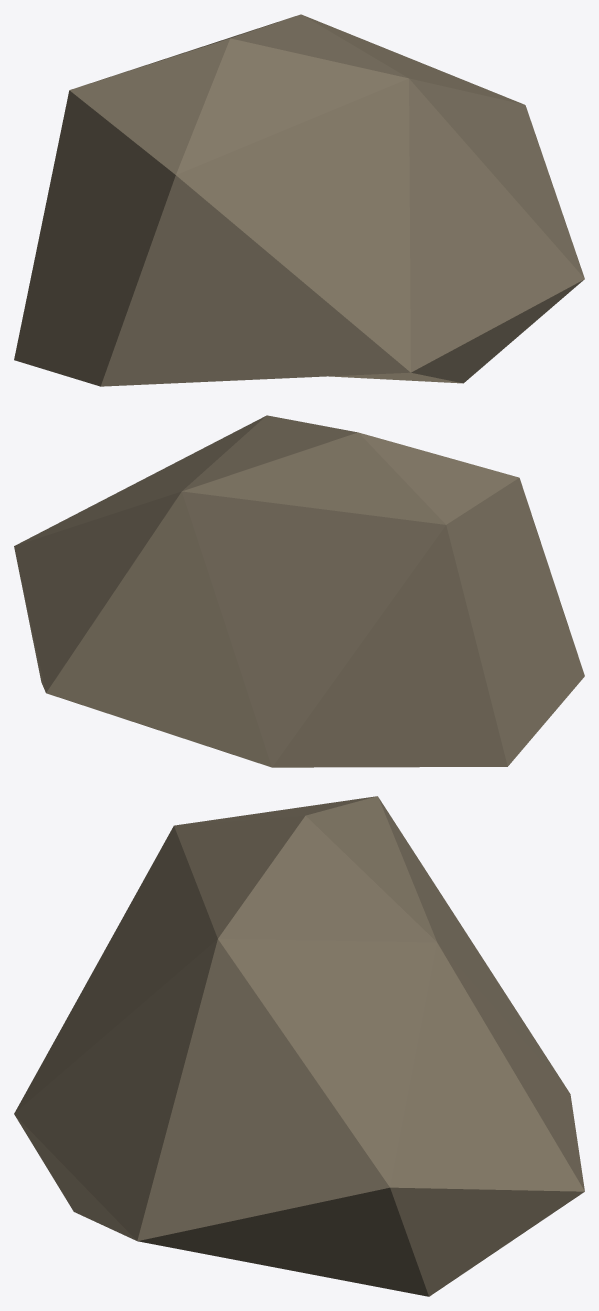
File: SmallRock_4.fbx
The picture shows the model from 3 angles, top to bottom: view 1: azimuth 30°, elevation 25°; view 2: azimuth 150°, elevation 25°; view 3: azimuth 270°, elevation 25°; orthographic projection. The views are drawn at different scales.
Parts seen in each view (by area): view 1: SmallRock_4; view 2: SmallRock_4; view 3: SmallRock_4.
Boxes of the visible parts, x1,y1,x2,y2 form: SmallRock_4: (14,14,584,386); SmallRock_4: (14,415,584,767); SmallRock_4: (14,796,584,1296).
Size of the model in its own units: 18.27 by 9.98 by 15.75.
